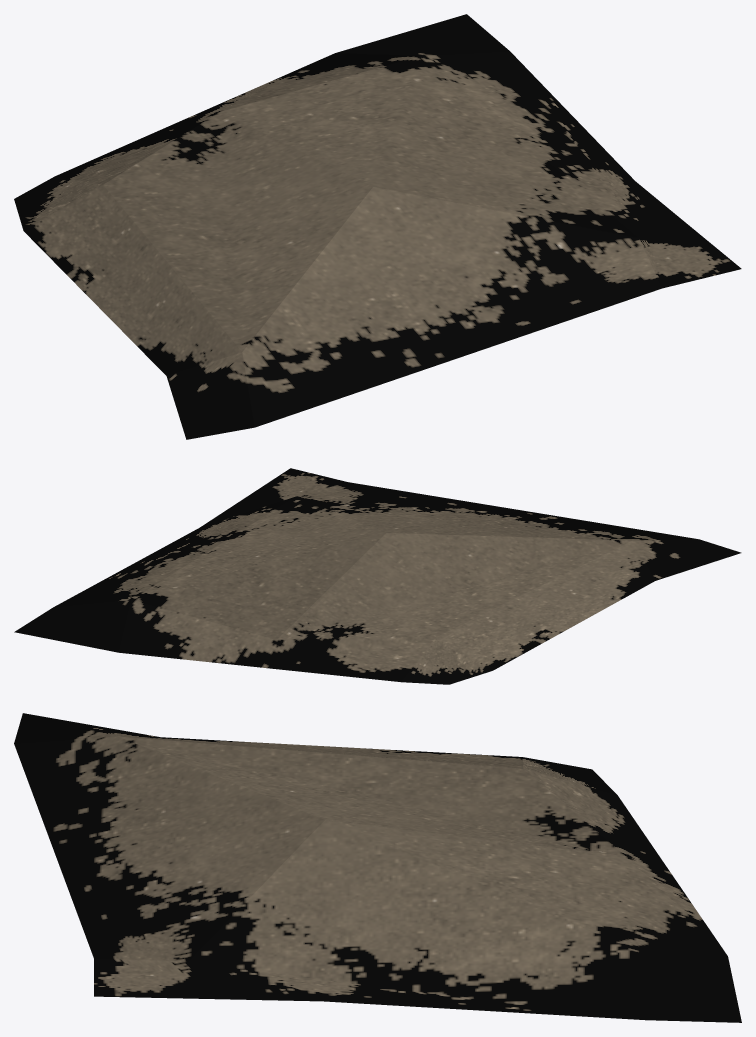
Rendered from Decal_Dirt_01.fbx.
3 renders of one model, top to bottom at view 1: azimuth 30°, elevation 25°; view 2: azimuth 150°, elevation 25°; view 3: azimuth 270°, elevation 25°, orthographic. The views are drawn at different scales.
Parts seen in each view (by area): view 1: Plane; view 2: Plane; view 3: Plane.
Part boxes in pixels (left/top/right/bottom): Plane: left=14, top=14, right=741, bottom=439; Plane: left=14, top=468, right=741, bottom=684; Plane: left=14, top=713, right=741, bottom=1022.
Size of the model in its own units: 237 by 20.08 by 235.
